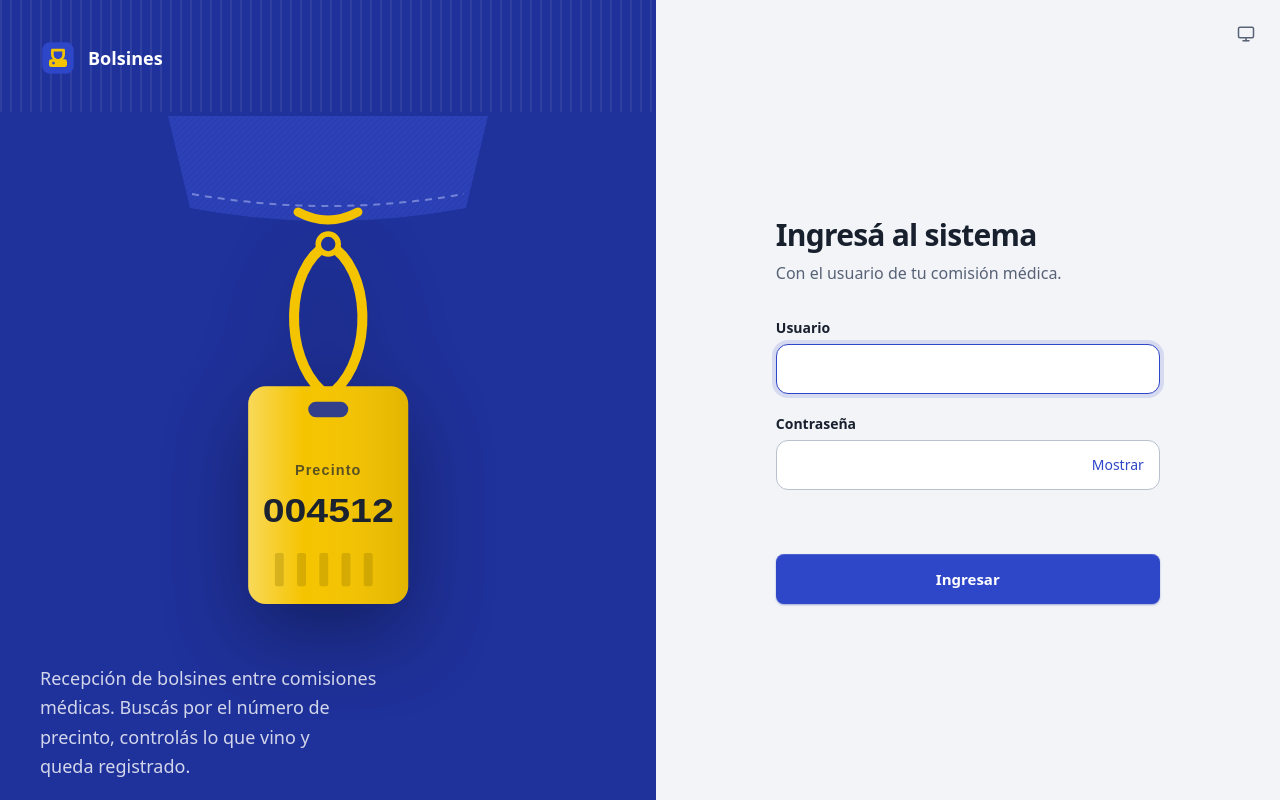
T7: ingreso, inicio y bandeja › con datos incorrectos muestra el error y no entra
The width and height of the screenshot is (1280, 800).
Type "silvina" into the field labelled "Usuario" at (968, 369), box [776,344,1160,394]
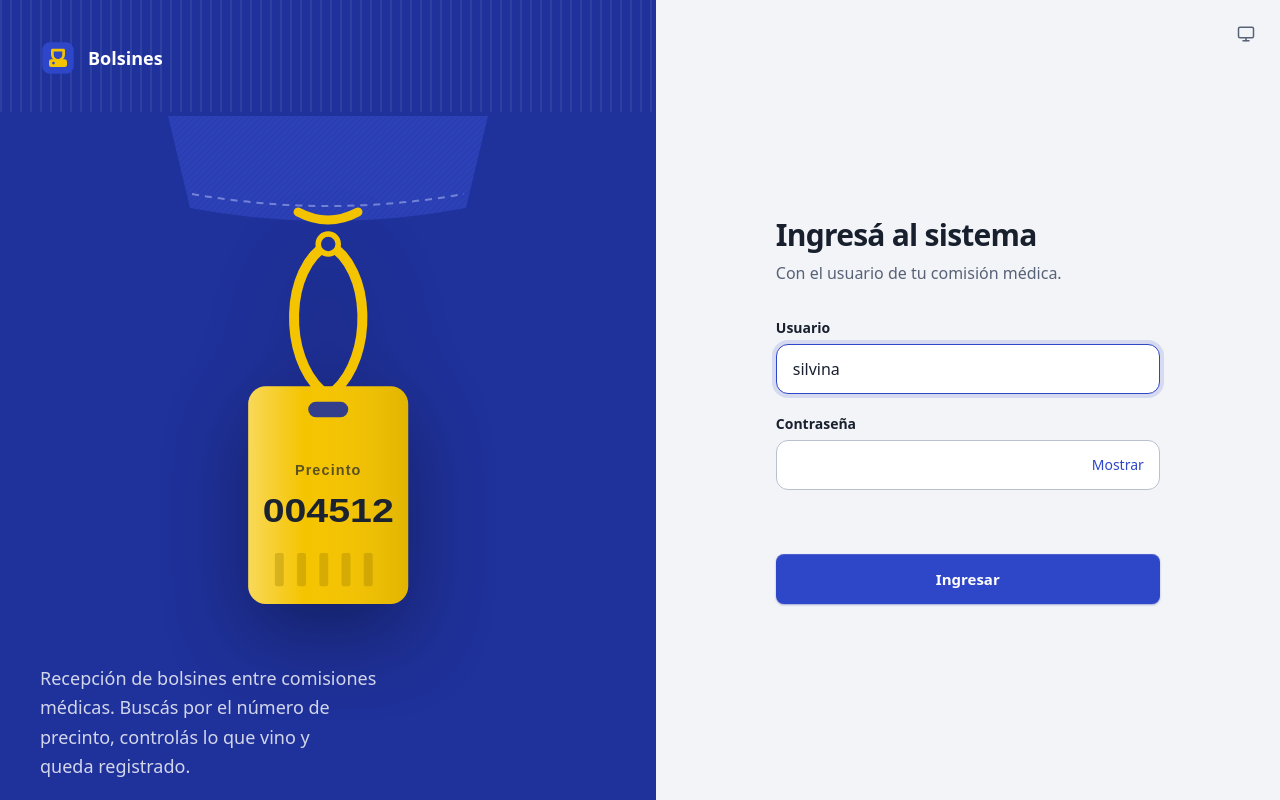
Type "mal" into the password field labelled "Contraseña" at (968, 465), box [776,440,1160,490]
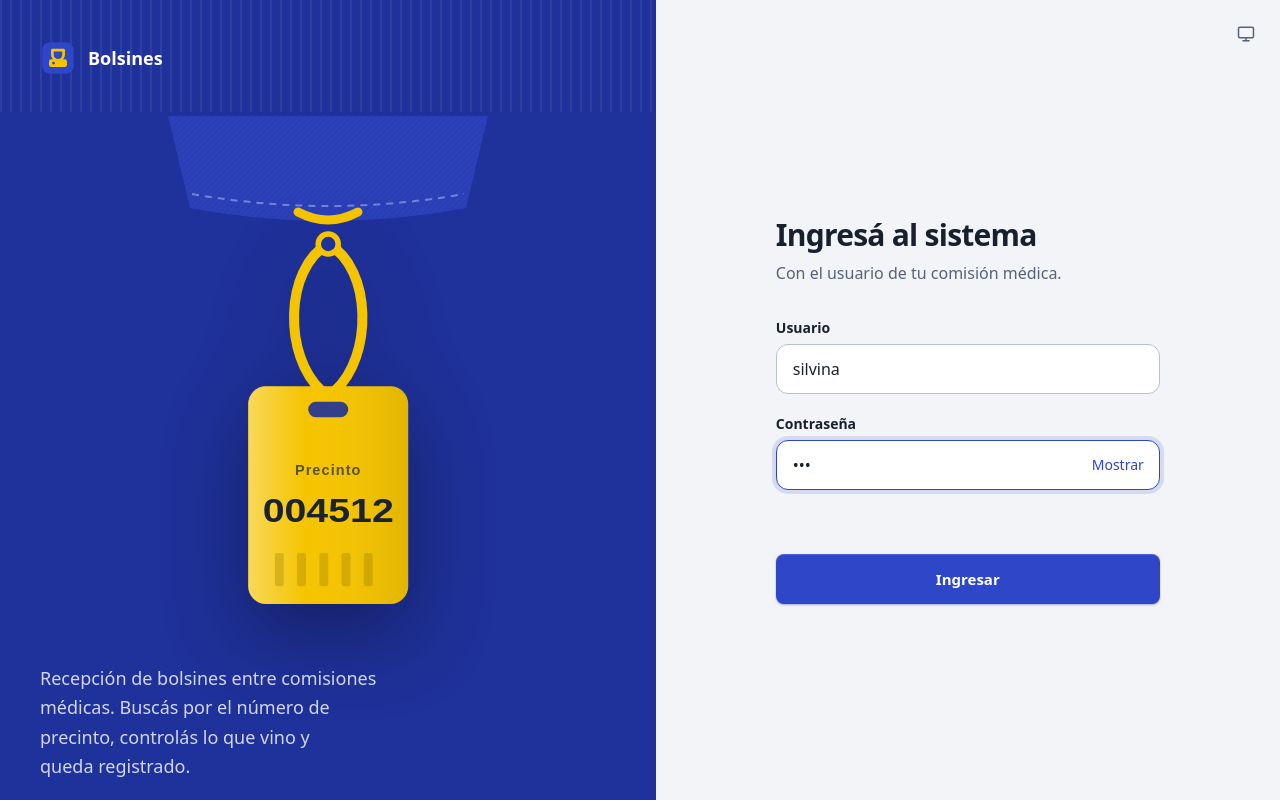
Click the button "Ingresar" at (968, 579), box [776,554,1160,604]
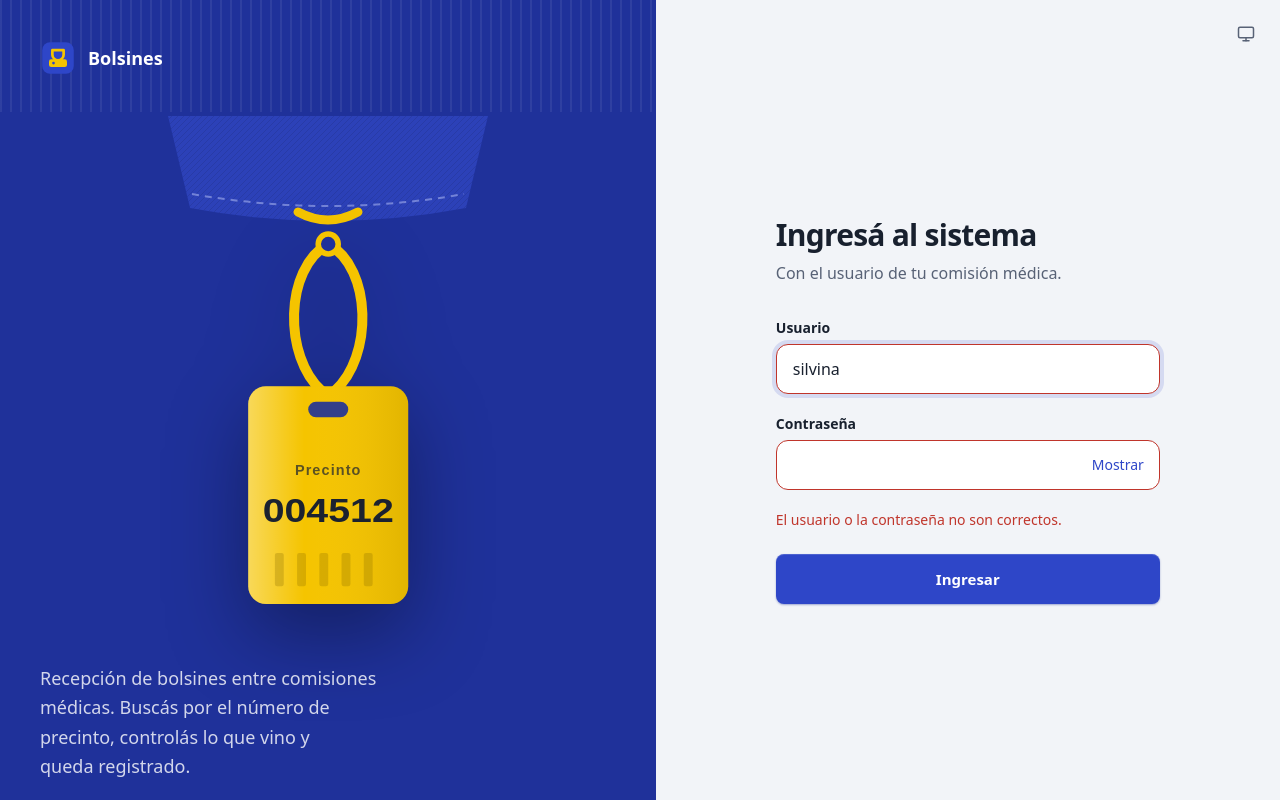
Check: the message reads "El usuario o la contraseña no son correctos.", box [776,510,1062,529]
